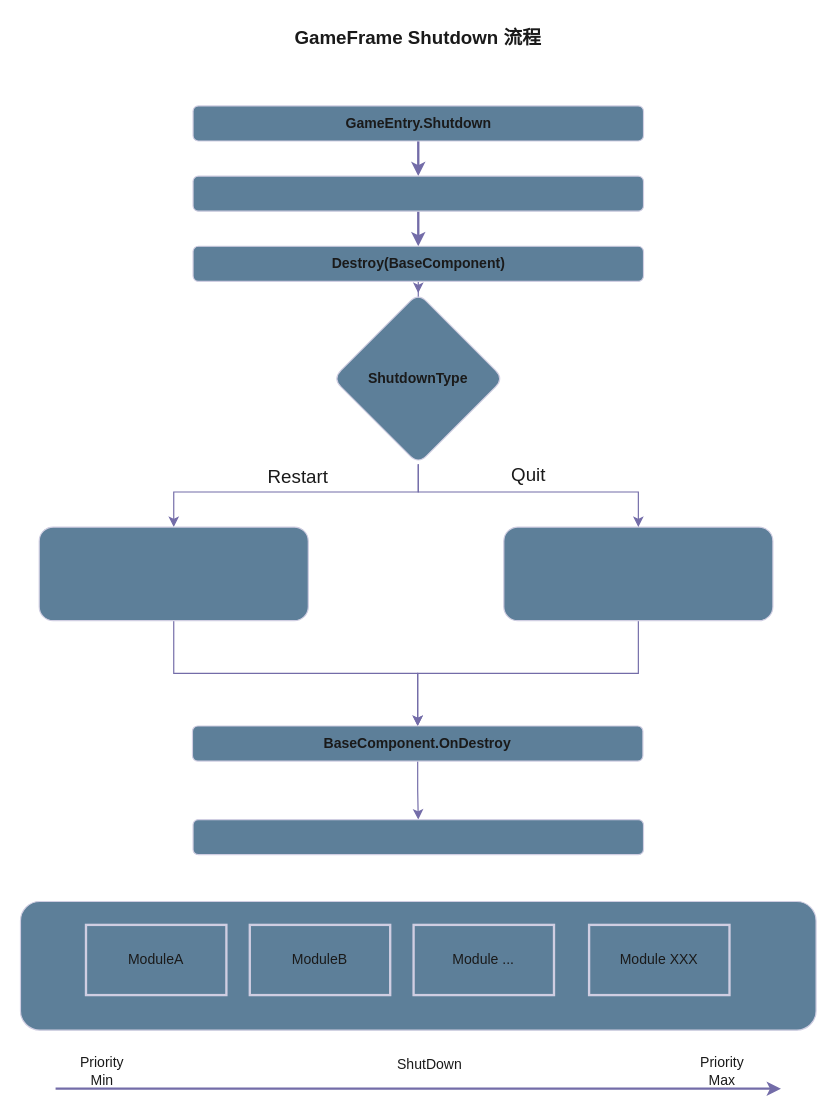
Some shapes in this 837 by 1119 pixel diagram are drawn without their labels. The shapes that lost their labels are listed below. From the top down, each one's box as (x1, y1, x2, y2) in pixels, then its label:
(192, 175, 644, 211): BaseComponent.Shutdown
(38, 526, 308, 621): SceneManager.LoadScene（GameFrameworkSceneID）
(503, 526, 773, 621): Application.Quit
(192, 818, 644, 855): GameFrameworkEntry.Shutdown
